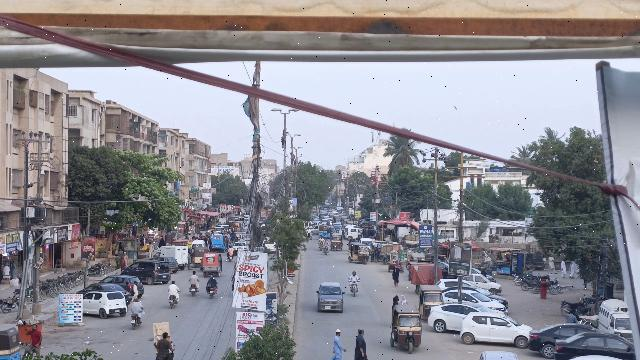Bike: (129, 311, 144, 330), (348, 281, 361, 298), (168, 293, 180, 309), (188, 282, 200, 297), (206, 285, 218, 300)
Car: (550, 327, 637, 360), (459, 309, 532, 347), (527, 320, 592, 354), (428, 302, 479, 333), (82, 290, 127, 319), (122, 260, 171, 285), (315, 282, 345, 314)
Person: (352, 327, 370, 360), (330, 326, 346, 360), (155, 329, 173, 359), (29, 323, 42, 355), (389, 265, 402, 288), (186, 268, 201, 284), (204, 273, 218, 289), (166, 280, 180, 295), (348, 269, 361, 283), (566, 308, 578, 322), (131, 299, 143, 313), (391, 296, 399, 307), (400, 294, 408, 304)
Rickshaw: (389, 304, 423, 355), (416, 283, 442, 320), (200, 251, 224, 278)
Suzuki: (596, 299, 634, 340)
Truck: (157, 244, 190, 268)
